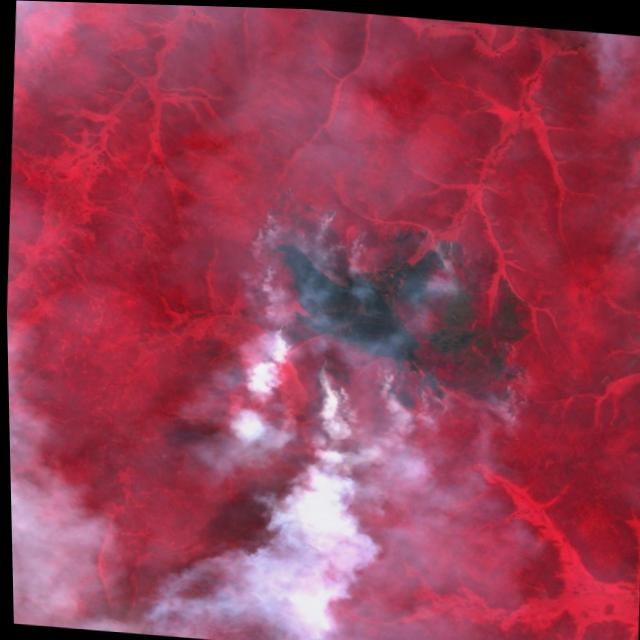fire: (233, 194, 510, 436)
